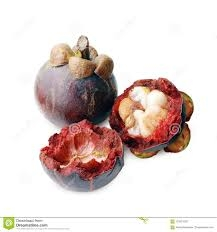kitchen_waste: (26, 32, 119, 130), (107, 76, 201, 162), (36, 119, 129, 197)
